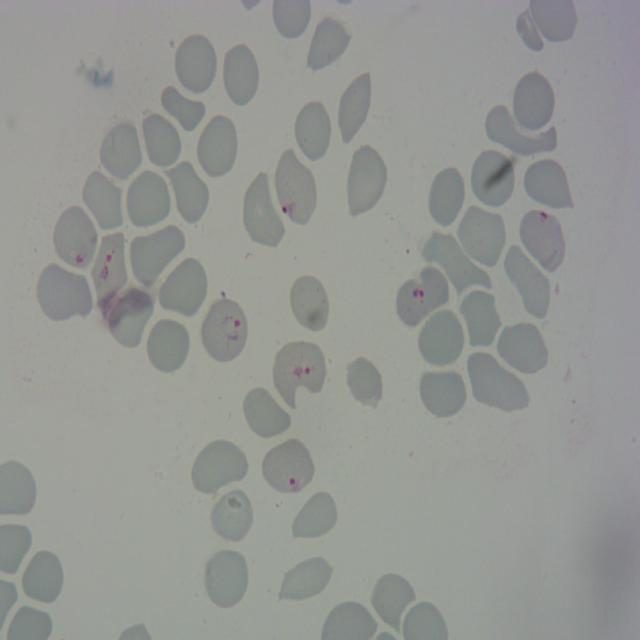leukocyte: (419, 229, 492, 293), (468, 352, 531, 415), (485, 104, 557, 157), (129, 223, 186, 289), (502, 245, 552, 319), (456, 202, 508, 270), (194, 110, 242, 182), (240, 173, 286, 248), (35, 261, 89, 323), (158, 252, 208, 318), (345, 144, 389, 219), (194, 438, 248, 498), (336, 66, 375, 149), (368, 569, 419, 632), (415, 308, 466, 370), (124, 167, 173, 230), (496, 318, 549, 376), (97, 117, 144, 182), (167, 158, 211, 227), (510, 70, 557, 134), (172, 32, 218, 96), (305, 15, 353, 76), (241, 382, 292, 439), (470, 149, 517, 210), (81, 167, 125, 232), (137, 110, 184, 170), (108, 288, 154, 349), (19, 548, 66, 607), (418, 366, 469, 420), (220, 41, 261, 108), (292, 98, 334, 163), (425, 164, 467, 228), (277, 554, 333, 602), (205, 547, 249, 607), (210, 484, 254, 544), (524, 158, 572, 212), (289, 276, 332, 336), (146, 318, 190, 374), (462, 288, 499, 352), (342, 353, 384, 408), (160, 85, 208, 133), (293, 492, 336, 538), (515, 8, 545, 54)
red blood cell: (272, 146, 319, 228), (272, 337, 326, 406), (392, 264, 449, 327), (261, 437, 316, 500), (200, 295, 250, 364), (89, 227, 128, 307), (517, 208, 565, 273), (53, 204, 97, 269)
